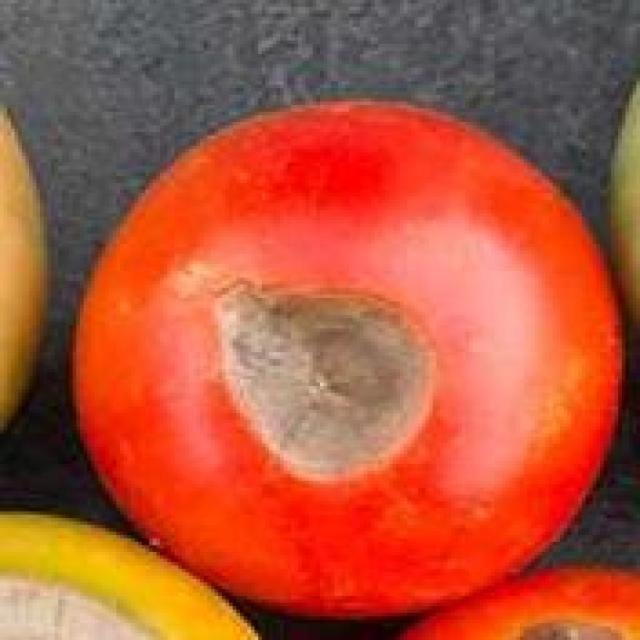Blossom End Rot Fruit: (55, 16, 377, 417)
